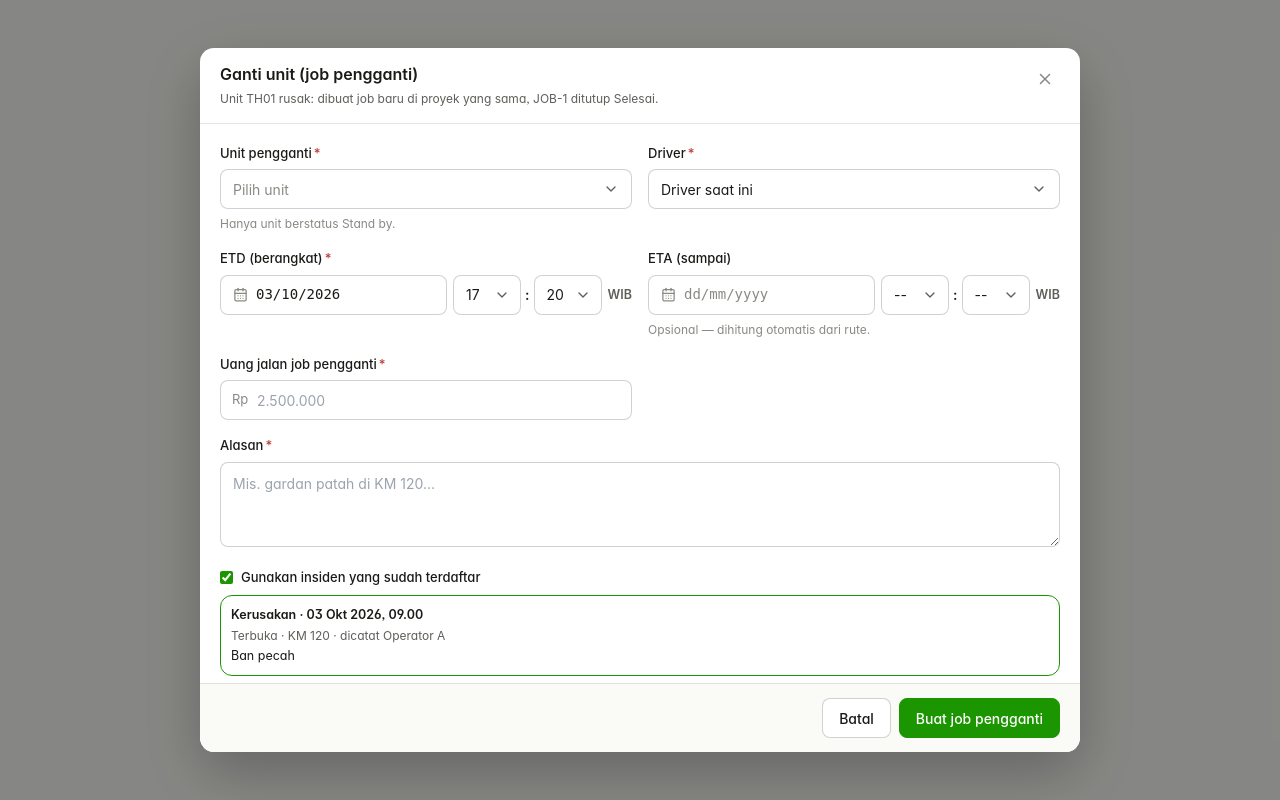
Test: GantiUnitModal — insiden terdaftar › edge: checkbox dilepas → isian insiden baru muncul lagi
What coordinates should you click on to do the following:
click the checkbox labelled "Gunakan insiden yang sudah terdaftar"
I would click on:
 (226, 578)
Its box is [220, 571, 233, 584].
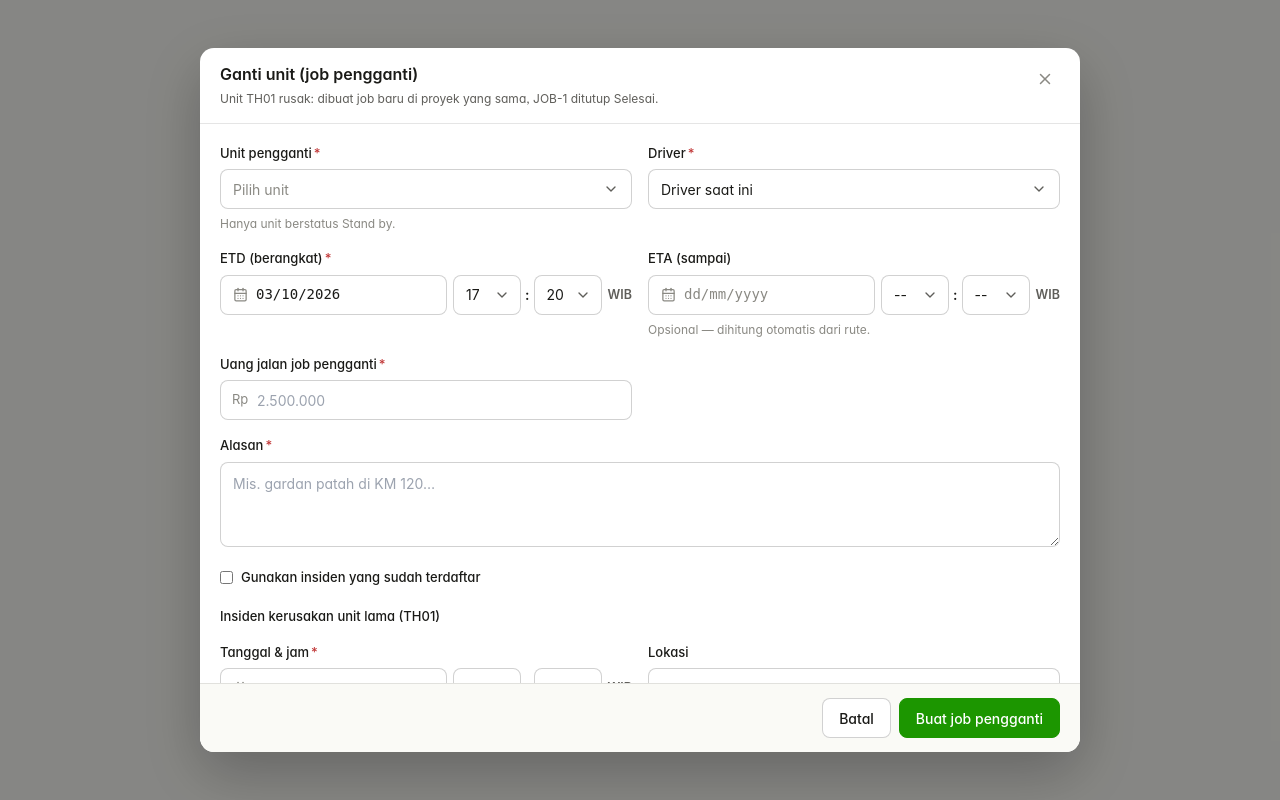
Expected: the text "Ban pecah" is gone
